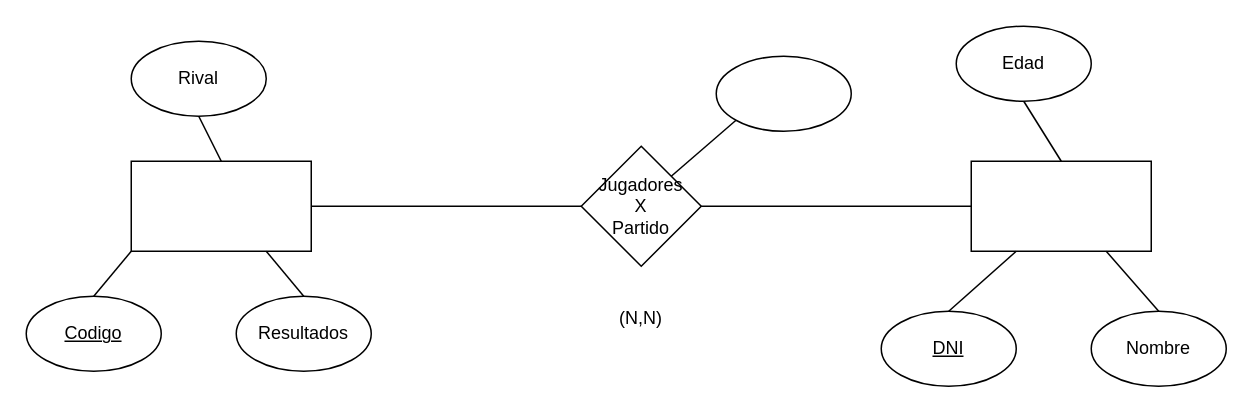
Some shapes in this 1253 by 413 pixel diagram are drawn without their labels. The centre of each missing label's shape, as x and y in pixels:
Estadisiticas: point 783,93
Jugadores: point 1060,205
Partidos: point 220,205
